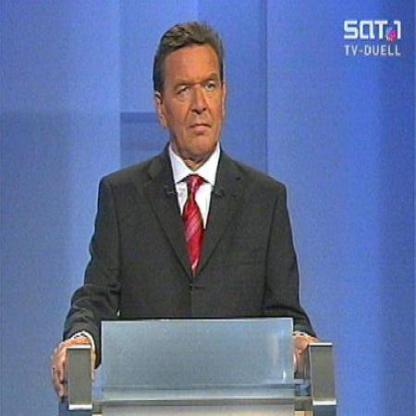face: (162, 25, 228, 160)
